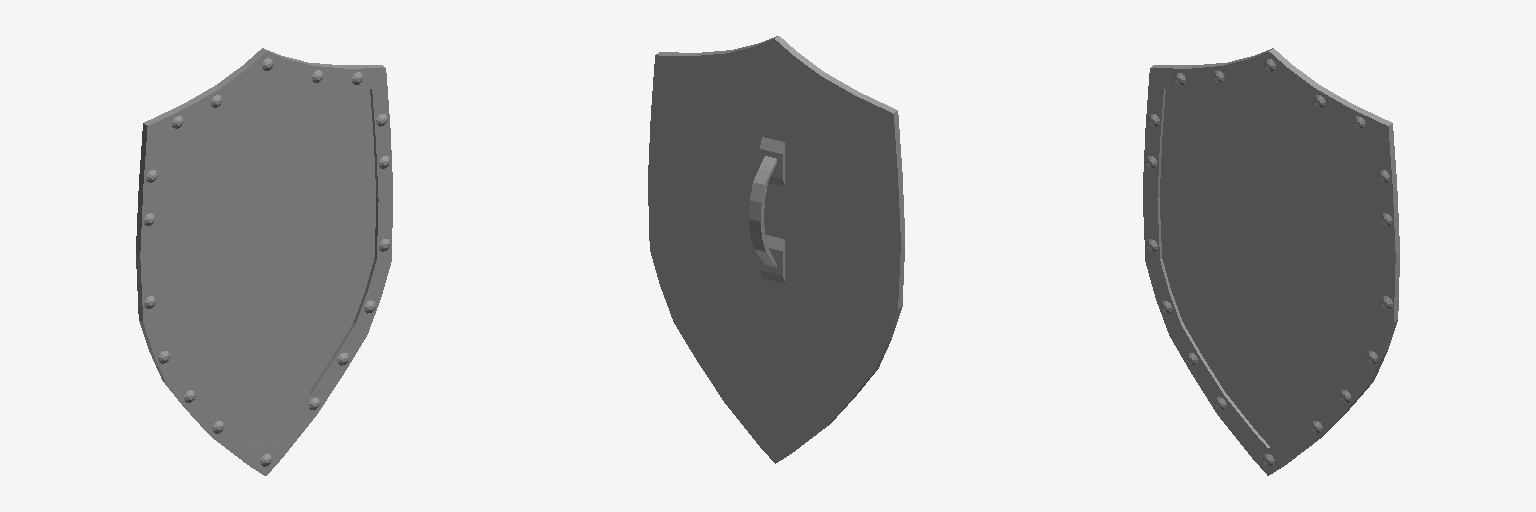
File: shiled.obj
3 renders of one model, left to right at view 1: azimuth 30°, elevation 25°; view 2: azimuth 150°, elevation 25°; view 3: azimuth 330°, elevation 25°, orthographic.
Visible parts, largest first — view 1: shiled; view 2: shiled; view 3: shiled.
Part boxes in pixels (left/top/right/bottom): shiled: left=136, top=48, right=392, bottom=475; shiled: left=648, top=36, right=904, bottom=463; shiled: left=1143, top=48, right=1399, bottom=475.
Size of the model in its own units: 2.41 by 3.86 by 0.4057.